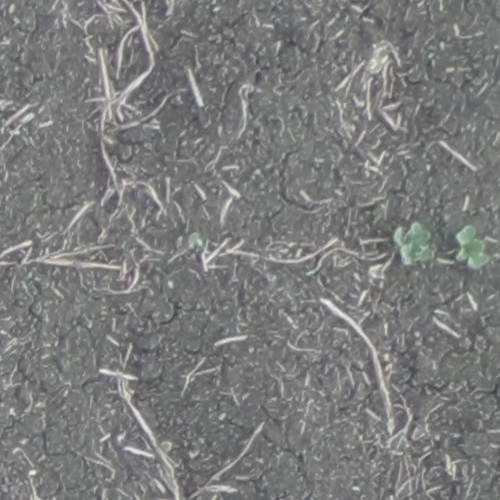isolated: (394, 221, 432, 263), (455, 226, 487, 268), (0, 237, 2, 251)
